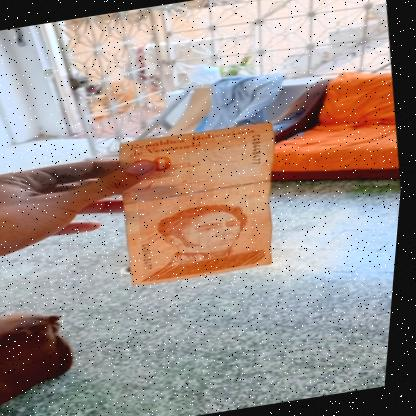twenty-front-vef: (111, 118, 298, 288)
